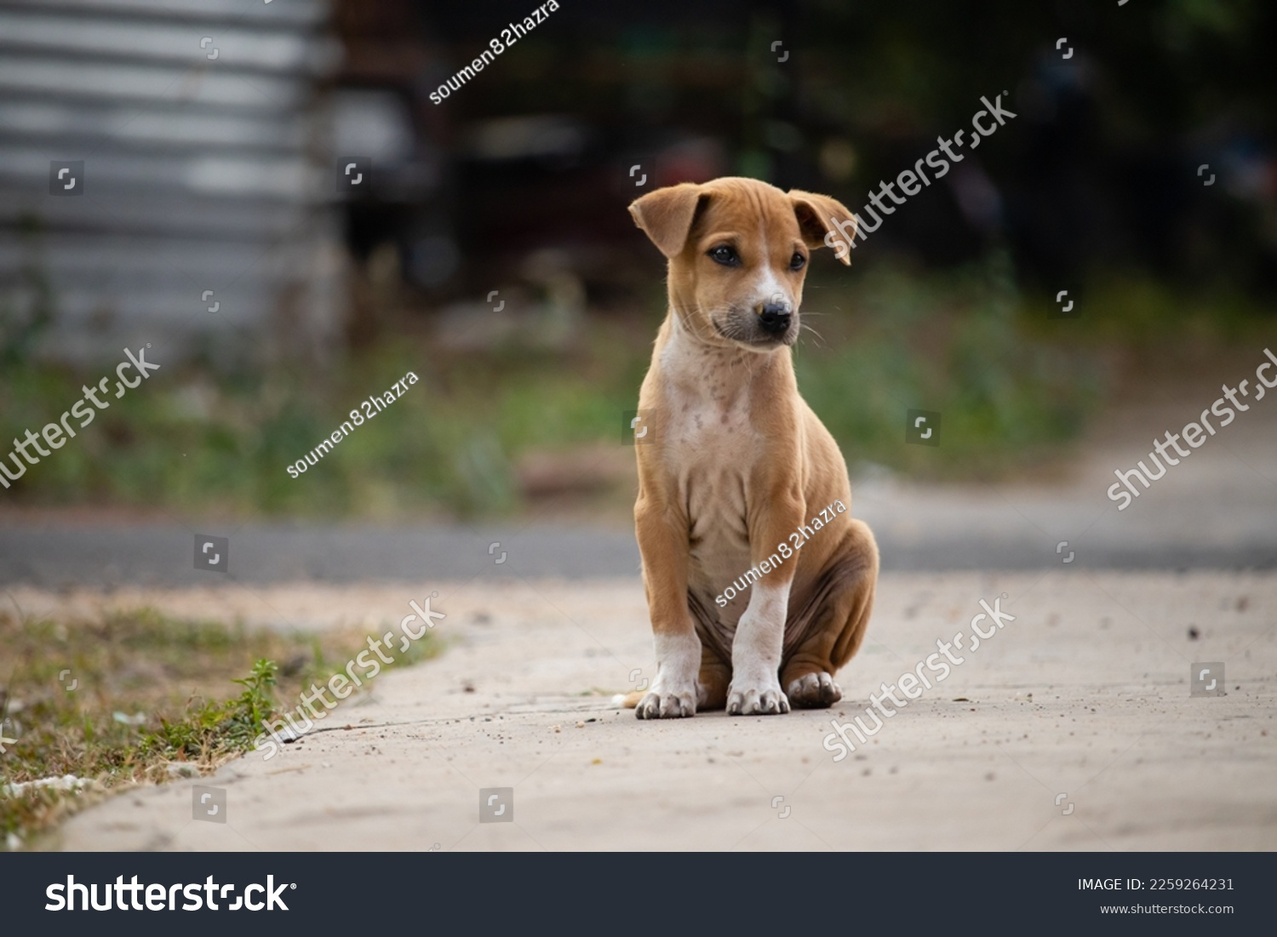Dog: (576, 145, 902, 780)
